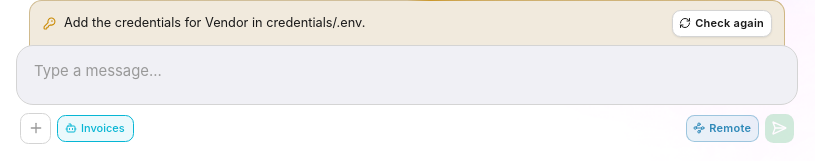
Test: composer readiness refusal › warns about missing credentials on a folder agent without refusing the send
Expected: the text "Add the credentials for Vendor in credentials/.env." is shown, x1=64 y1=15 x2=365 y2=30
Expected: the button "Check again" is shown, x1=672 y1=10 x2=772 y2=36
Type "hello" into the dropdown. click: {"x": 407, "y": 71}
box: x1=17 y1=46 x2=797 y2=96
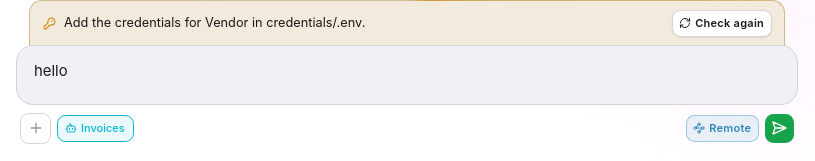
Result: the button named "Send" is enabled at x1=765 y1=114 x2=794 y2=143
